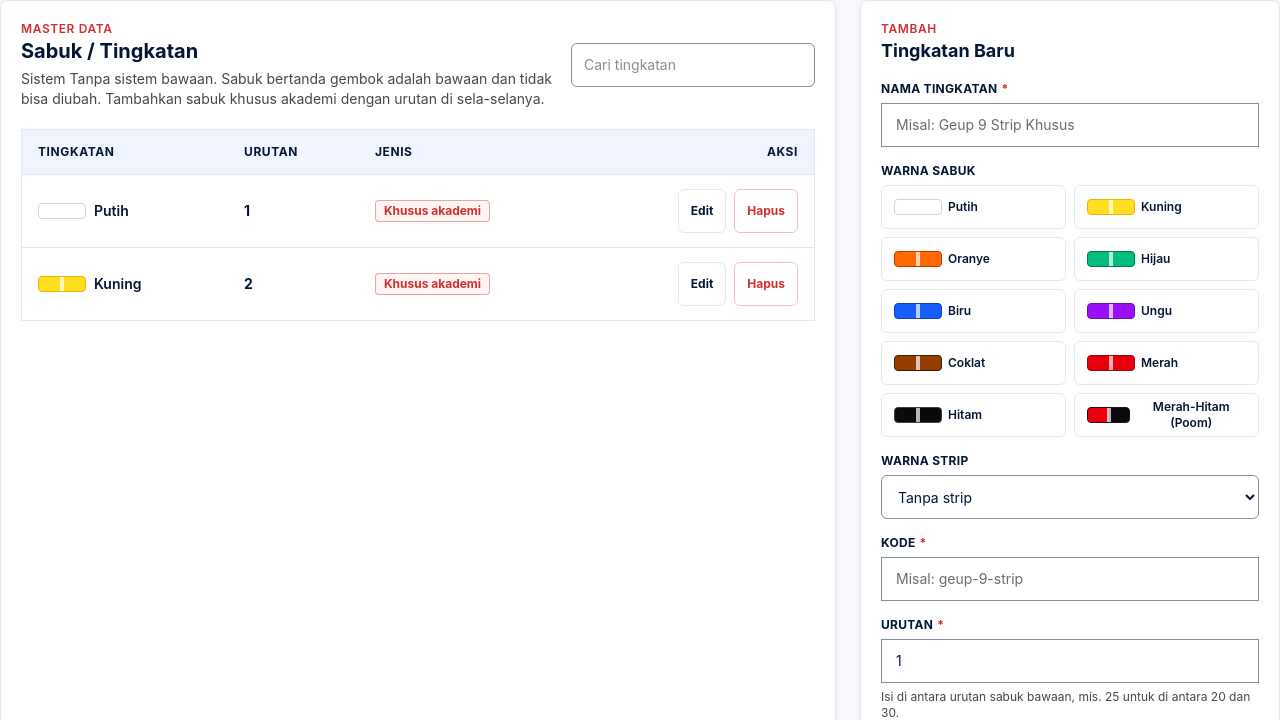
Test case: AcademyRanksManager › di desktop (xl) tombol Edit mengisi form samping tanpa membuka SheetModal
Click the button with aria-label "Edit Putih": [702, 211] box [678, 189, 726, 233]
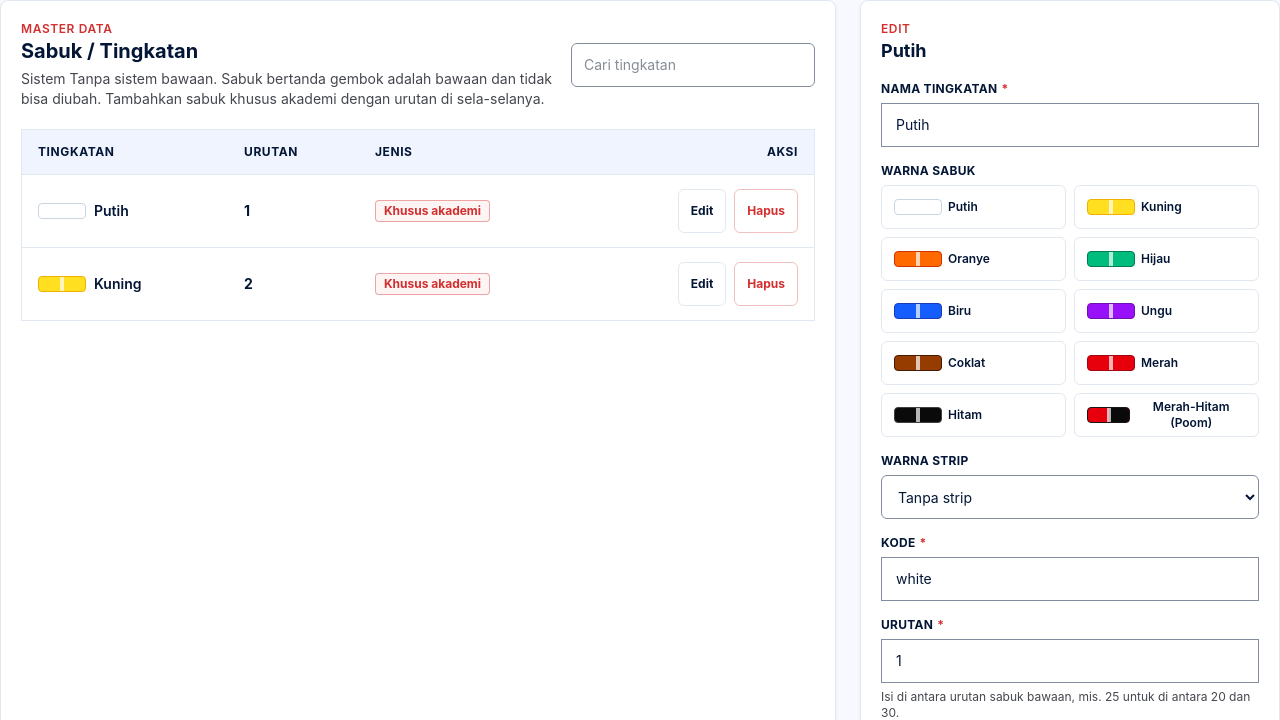
Expected: the heading "Putih" is shown, [881, 40, 926, 61]
